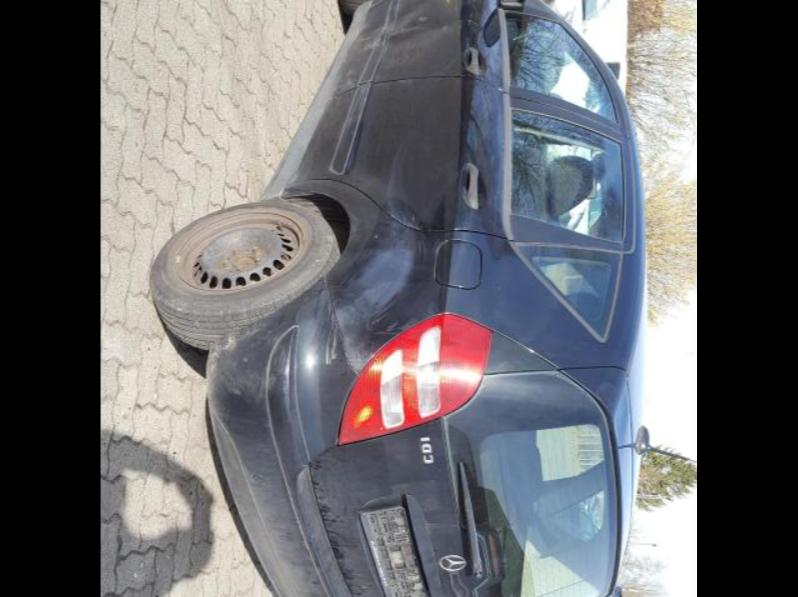Corrosion: (174, 210, 304, 294), (201, 224, 294, 288), (224, 244, 268, 274)
Dent: (356, 0, 468, 56)
Missing part: (364, 510, 427, 597)
Scratch: (322, 318, 340, 366), (464, 0, 476, 30), (354, 24, 360, 42), (464, 36, 472, 48)
